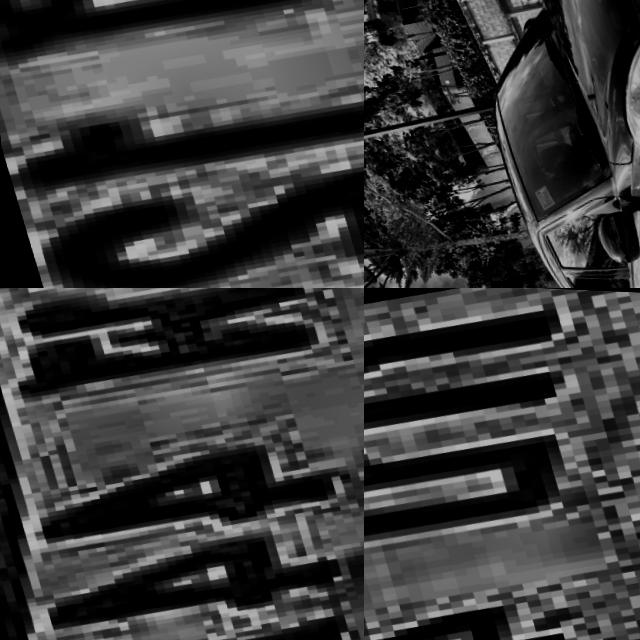license-plate: (0, 288, 364, 640), (0, 0, 364, 288), (364, 288, 640, 640)
